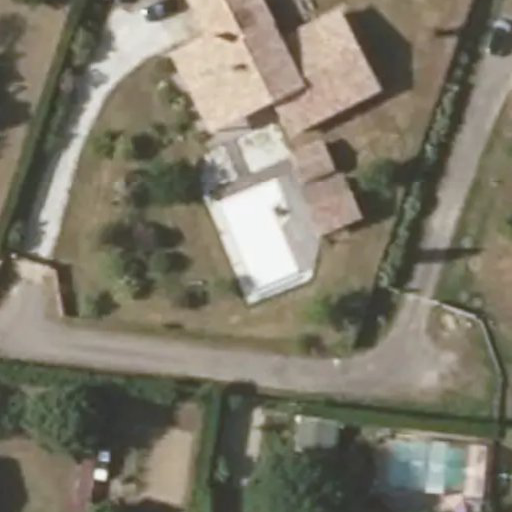pool: (225, 214, 295, 269)
